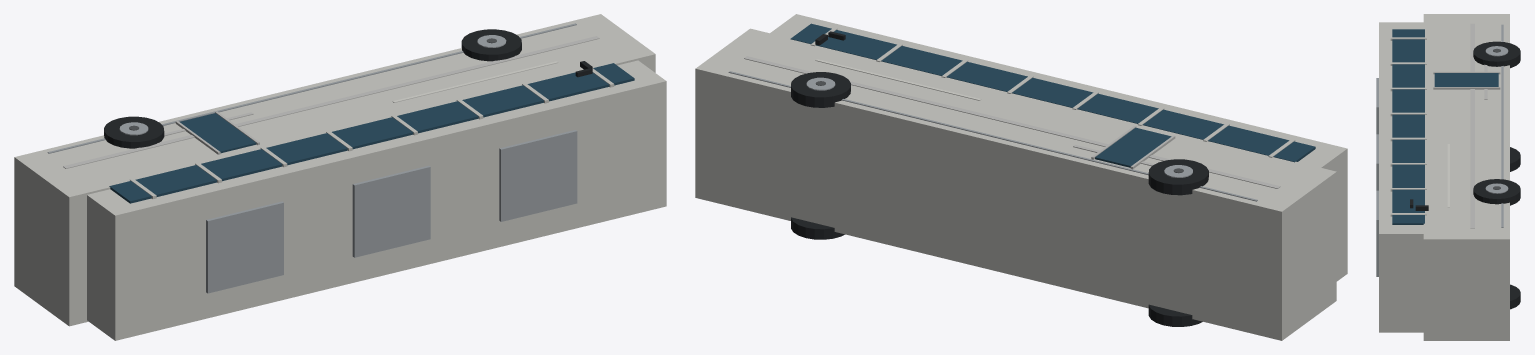
Rendered from RM_Bus_13.glb.
The picture shows the model from 3 angles, left to right: view 1: azimuth 30°, elevation 25°; view 2: azimuth 150°, elevation 25°; view 3: azimuth 270°, elevation 25°; orthographic projection. The views are drawn at different scales.
Visible parts, largest first — view 1: part_001, part_000, part_002, part_038, part_039, part_037, part_013, part_040, part_024, part_030, part_014; view 2: part_000, part_002, part_001, part_013, part_040, part_024, part_030, part_014, part_021, part_027; view 3: part_000, part_001, part_002, part_013, part_040, part_030, part_024, part_014, part_039, part_027, part_021, part_042 (+6 smaller).
Boxes of the visible parts, x1,y1,x2,y2 form: part_001: (87,60,666,340); part_000: (14,14,655,326); part_002: (109,63,634,203); part_038: (352,165,430,257); part_039: (499,130,577,221); part_037: (206,201,283,293); part_013: (63,36,599,168); part_040: (180,113,256,153); part_024: (104,116,164,148); part_030: (461,29,521,61); part_014: (47,23,576,153); part_000: (695,28,1336,340); part_002: (790,23,1315,162); part_001: (770,14,1347,281); part_013: (744,56,1280,188); part_040: (1095,127,1171,167); part_024: (1148,159,1208,195); part_030: (791,72,850,107); part_014: (728,71,1257,201); part_021: (1148,304,1202,326); part_027: (791,217,844,239); part_000: (1423,14,1509,340); part_001: (1379,22,1423,332); part_002: (1392,29,1424,224); part_013: (1470,23,1474,228); part_040: (1434,73,1498,86); part_030: (1473,179,1520,205); part_024: (1473,41,1520,68); part_014: (1501,24,1503,227); part_039: (1376,190,1378,276); part_027: (1510,284,1520,309); part_021: (1510,147,1520,171); part_042: (1433,87,1500,89).
Size of the model in its own units: 11.64 by 2.77 by 3.16.
